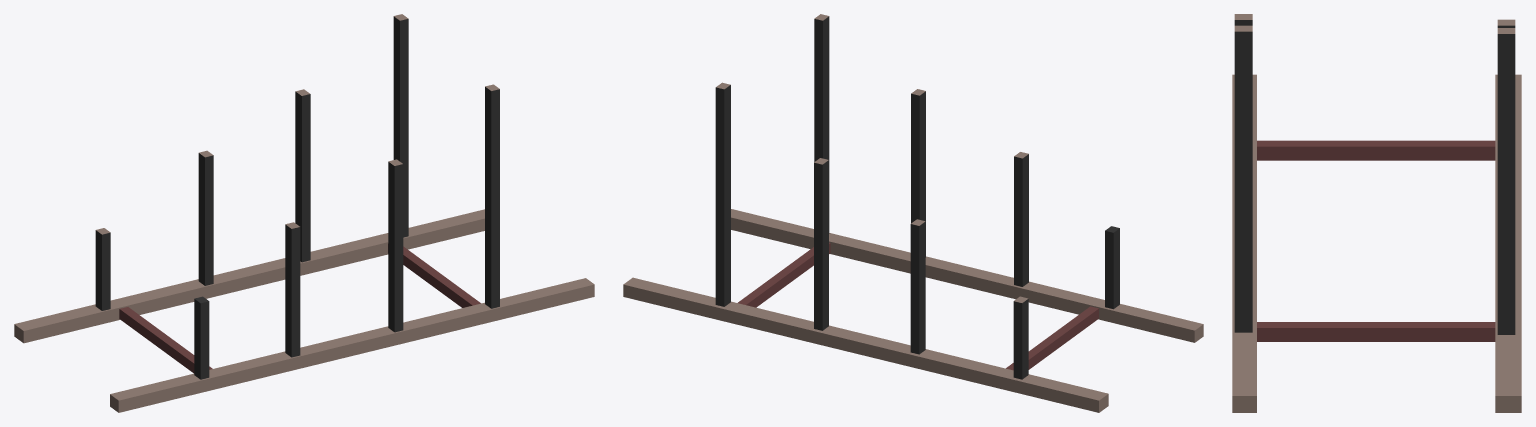
The model's file is Rack_Plates.fbx.
The picture shows the model from 3 angles, left to right: view 1: azimuth 30°, elevation 25°; view 2: azimuth 150°, elevation 25°; view 3: azimuth 270°, elevation 25°; orthographic projection. The views are drawn at different scales.
Visible parts, largest first — view 1: Plate_Rack; view 2: Plate_Rack; view 3: Plate_Rack.
Part boxes in pixels (<box>): Plate_Rack: <box>14,14,594,412</box>; Plate_Rack: <box>623,14,1203,412</box>; Plate_Rack: <box>1232,14,1521,412</box>.
Size of the model in its own units: 84.78 by 39.14 by 32.26.
